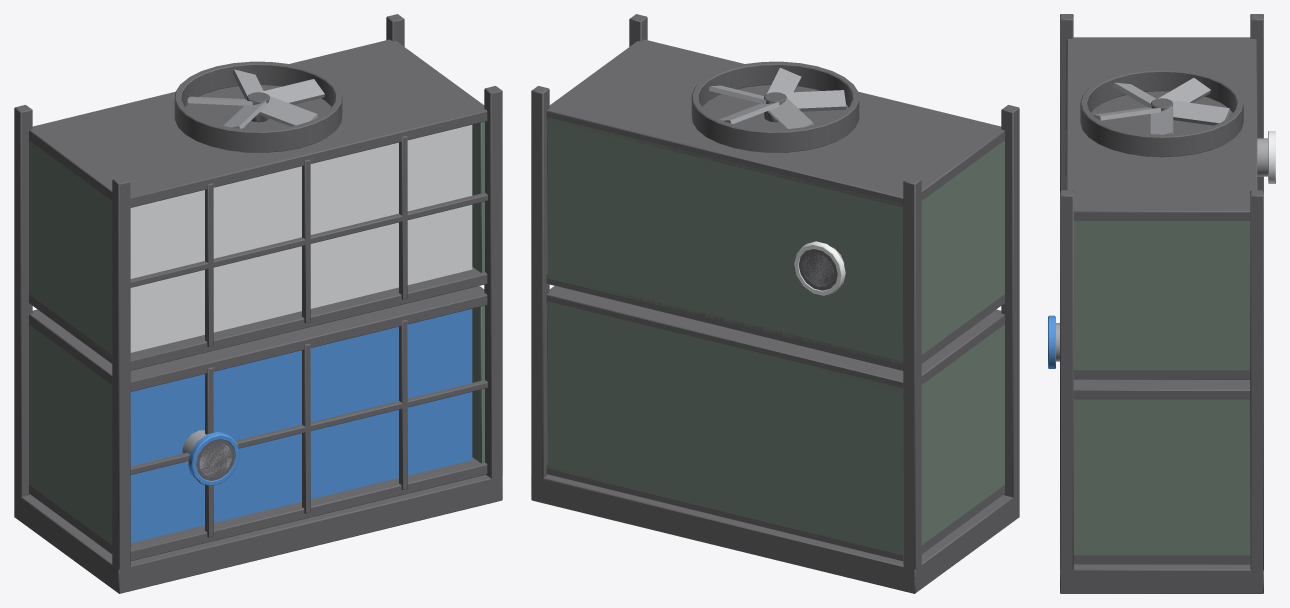
File: feCondenser.fbx
3 views of the same model, side by side, from view 1: azimuth 30°, elevation 25°; view 2: azimuth 150°, elevation 25°; view 3: azimuth 270°, elevation 25° (orthographic). The views are drawn at different scales.
Visible parts, largest first — view 1: feCondenser_Base, FeLevelLiquid, FeLevelGas, FeFan_Condenser; view 2: feCondenser_Base, FeFan_Condenser; view 3: feCondenser_Base, FeFan_Condenser.
Boxes of the visible parts, box(x1,y1,x2,y2) form: feCondenser_Base: box(14, 14, 502, 593); FeLevelLiquid: box(130, 309, 472, 542); FeLevelGas: box(130, 125, 472, 352); FeFan_Condenser: box(187, 69, 324, 128); feCondenser_Base: box(531, 14, 1019, 593); FeFan_Condenser: box(709, 67, 846, 129); feCondenser_Base: box(1048, 14, 1275, 593); FeFan_Condenser: box(1094, 78, 1230, 134).
Size of the model in its own units: 1.9 by 1.95 by 1.
